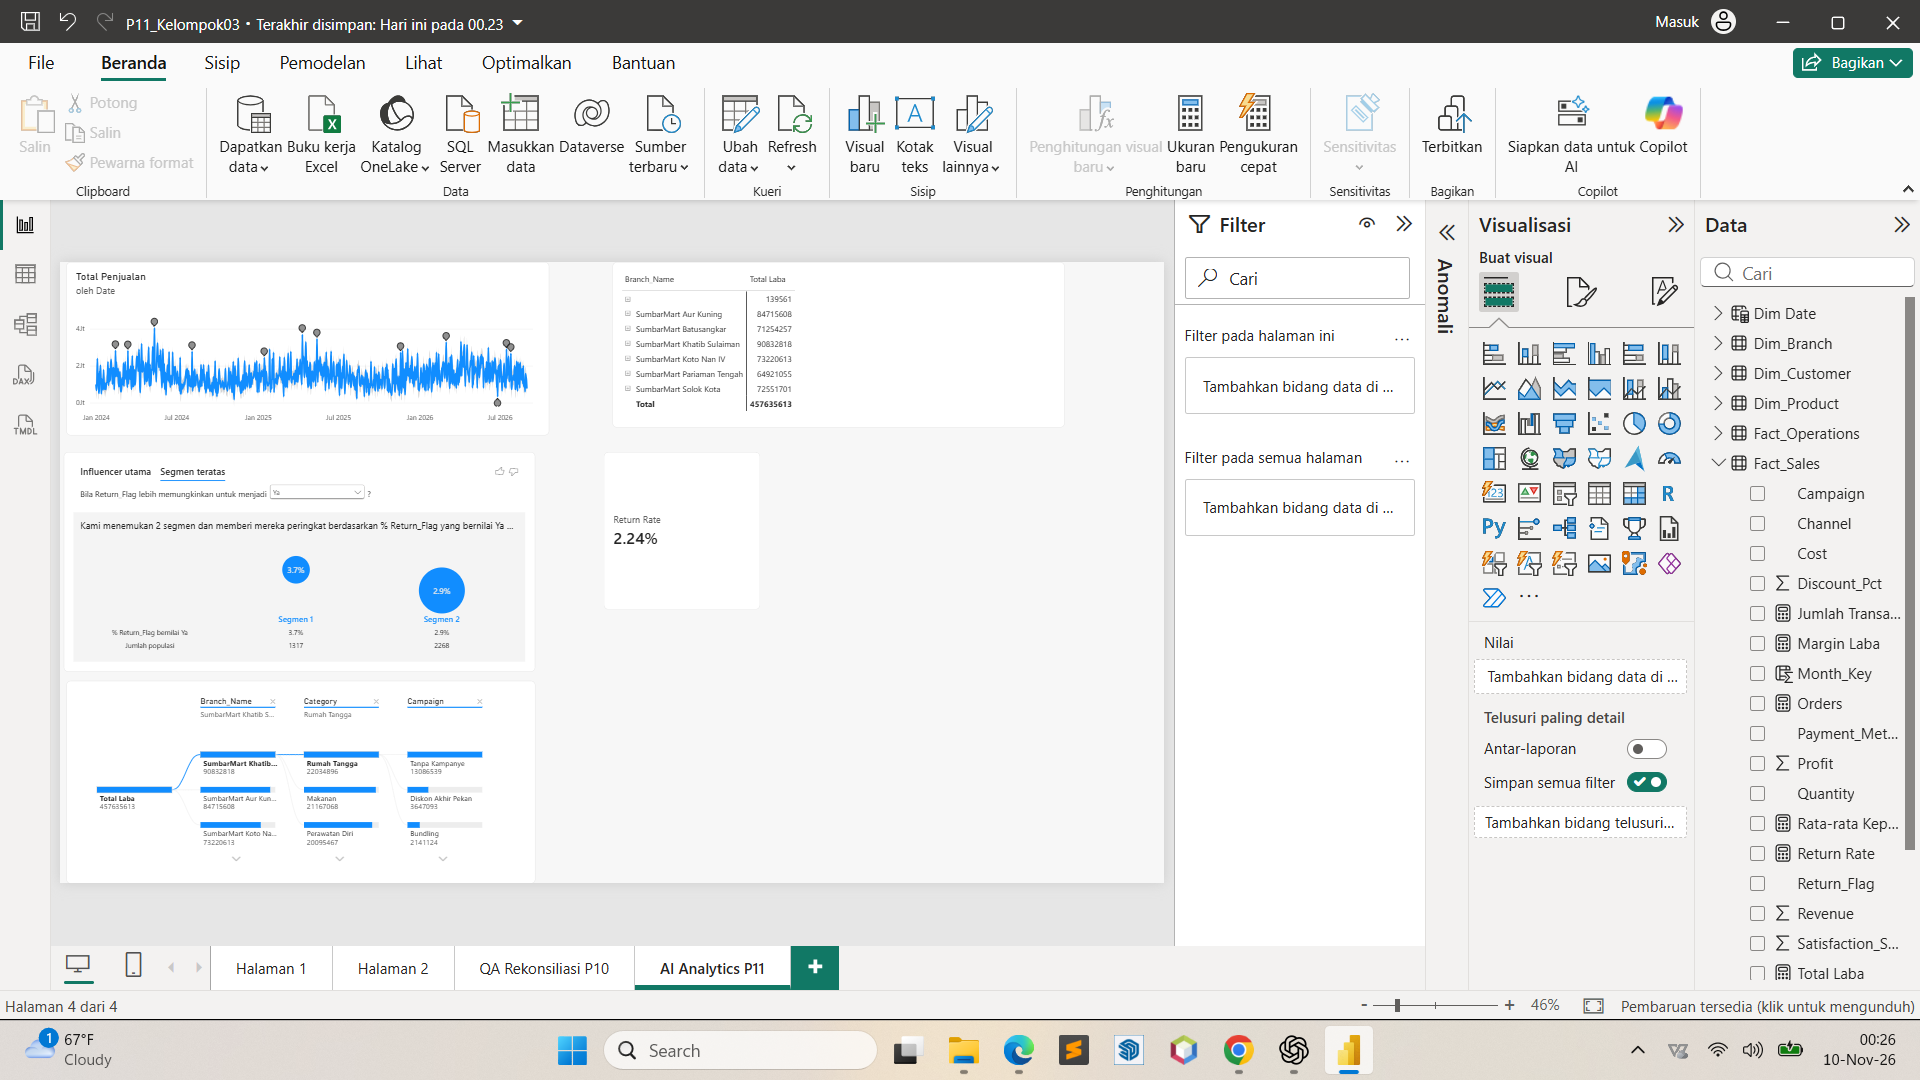

What the dashboard file says about the page in this screenshot:
{"tool":"powerbi","page":{"name":"AI Analytics P11","canvas":[1920,1080],"ordinal":3},"visuals":[{"type":"lineChart","fields":{"Category":["Dim Date.Date"],"Y":["Fact_Sales.Total Penjualan"]},"box":[10.7,0,840.3,301.5],"z":0},{"type":"keyDriversVisual","fields":{"ExplainBy":["Dim_Branch.Branch_Name","Dim_Product.Category","Dim_Product.Subcategory","Sum(Fact_Sales.Discount_Pct)","Fact_Sales.Channel"],"Target":["Fact_Sales.Return_Flag"]},"box":[5.9,329.4,819.6,382.4],"z":1000},{"type":"decompositionTreeVisual","fields":{"Analyze":["Fact_Sales.Total Laba"],"ExplainBy":["Dim_Branch.Branch_Name","Dim_Product.Category","Fact_Sales.Campaign"]},"box":[9.8,727.5,815.7,352.9],"z":2000},{"type":"pivotTable","fields":{"Rows":["Dim_Branch.Branch_Name","Dim_Product.Category","Fact_Sales.Campaign"],"Values":["Fact_Sales.Total Laba"]},"box":[960.8,0,786.3,288.2],"z":2001},{"type":"cardVisual","fields":{"Data":["Fact_Sales.Return Rate"]},"box":[945.1,329.4,272.5,274.5],"z":2002}]}

Visuals, with their boxes on the page's 1920x1080 design canvas (x1, y1, x2, y2). These are canvas units, not pixel positions in the 1920x1080 screenshot, which may show the page scaled, cropped or inside an application window:
lineChart - Dim Date.Date x Fact_Sales.Total Penjualan: 11:0:851:302
keyDriversVisual - Dim_Branch.Branch_Name x Dim_Product.Category: 6:329:826:712
decompositionTreeVisual - Fact_Sales.Total Laba x Dim_Branch.Branch_Name: 10:728:826:1080
pivotTable - Dim_Branch.Branch_Name x Dim_Product.Category: 961:0:1747:288
cardVisual - Fact_Sales.Return Rate: 945:329:1218:604
